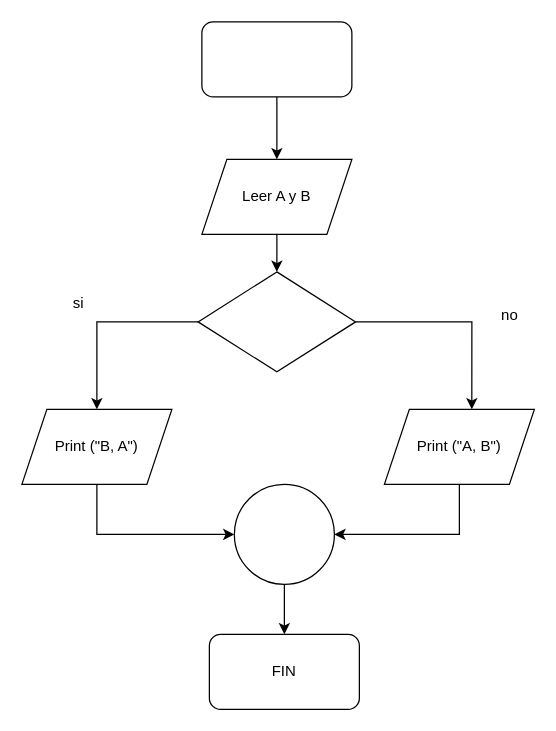
Image size: 556x731. Some labels were removed from this diagram. Here are the shapes that lost their labels. From the top down, the centre of each, then its label:
At (276,59): "INICIO".
At (276,321): "A>B".
